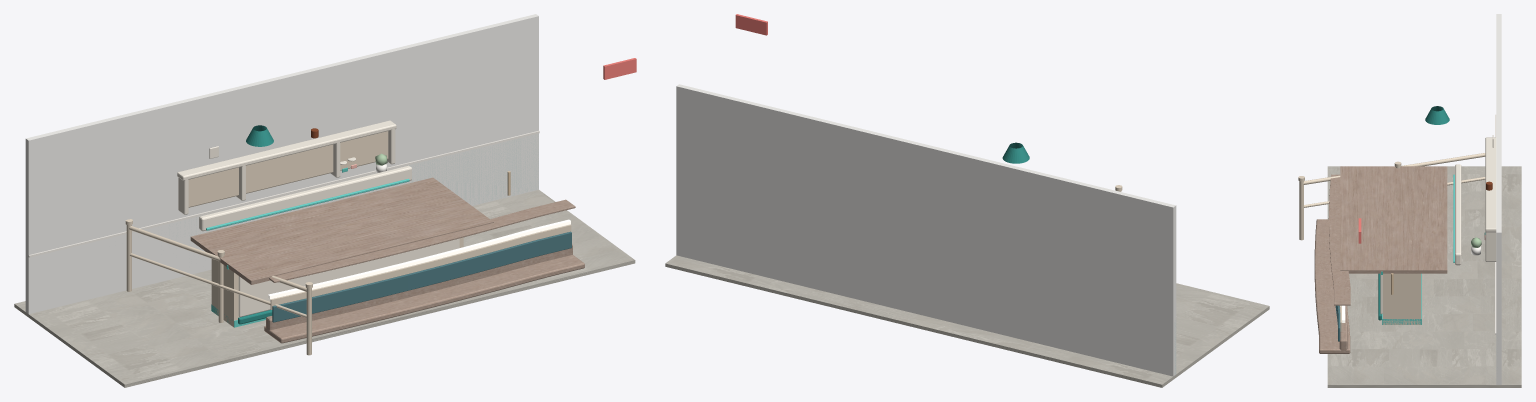
File: shop_scene.glb
The picture shows the model from 3 angles, left to right: view 1: azimuth 30°, elevation 25°; view 2: azimuth 150°, elevation 25°; view 3: azimuth 270°, elevation 25°; orthographic projection. The views are drawn at different scales.
Visible parts, largest first — view 1: PD_Batch_01_CM_Wall, PD_Batch_16_fine_grained_wood, PD_Batch_00_grey_cartago_01, PD_Batch_02_CM_LightWood, PD_Batch_15_PD_CreamHighlight, PD_Batch_18_PD_FrontMintBand, PD_Batch_07_wainscot_soft, PD_Fascia_Base, PD_Batch_17_PD_FrontCream, PD_Batch_08_accent_cream, PD_Batch_03_CM_Mint; view 2: PD_Batch_01_CM_Wall, PD_Batch_00_grey_cartago_01; view 3: PD_Batch_00_grey_cartago_01, PD_Batch_16_fine_grained_wood, PD_Batch_02_CM_LightWood, PD_Batch_01_CM_Wall, PD_Batch_15_PD_CreamHighlight, PD_Batch_03_CM_Mint, PD_LampShade_0.
Boxes of the visible parts, x1=… form: PD_Batch_01_CM_Wall: x1=25, y1=14, x2=538, y2=313; PD_Batch_16_fine_grained_wood: x1=190, y1=177, x2=584, y2=343; PD_Batch_00_grey_cartago_01: x1=14, y1=190, x2=635, y2=387; PD_Batch_02_CM_LightWood: x1=125, y1=131, x2=571, y2=355; PD_Batch_15_PD_CreamHighlight: x1=177, y1=120, x2=411, y2=231; PD_Batch_18_PD_FrontMintBand: x1=272, y1=231, x2=571, y2=322; PD_Batch_07_wainscot_soft: x1=169, y1=134, x2=538, y2=258; PD_Fascia_Base: x1=238, y1=238, x2=459, y2=317; PD_Batch_17_PD_FrontCream: x1=268, y1=219, x2=570, y2=299; PD_Batch_08_accent_cream: x1=28, y1=130, x2=539, y2=257; PD_Batch_03_CM_Mint: x1=206, y1=178, x2=409, y2=327; PD_Batch_01_CM_Wall: x1=676, y1=84, x2=1176, y2=376; PD_Batch_00_grey_cartago_01: x1=665, y1=255, x2=1269, y2=387; PD_Batch_00_grey_cartago_01: x1=1327, y1=166, x2=1521, y2=387; PD_Batch_16_fine_grained_wood: x1=1314, y1=166, x2=1447, y2=353; PD_Batch_02_CM_LightWood: x1=1298, y1=153, x2=1485, y2=331; PD_Batch_01_CM_Wall: x1=1496, y1=14, x2=1501, y2=384; PD_Batch_15_PD_CreamHighlight: x1=1455, y1=137, x2=1496, y2=265; PD_Batch_03_CM_Mint: x1=1382, y1=174, x2=1454, y2=324; PD_LampShade_0: x1=1425, y1=106, x2=1449, y2=124.
Size of the model in its own units: 8.3 by 2.8 by 3.45.
20 materials, 2 textured.
